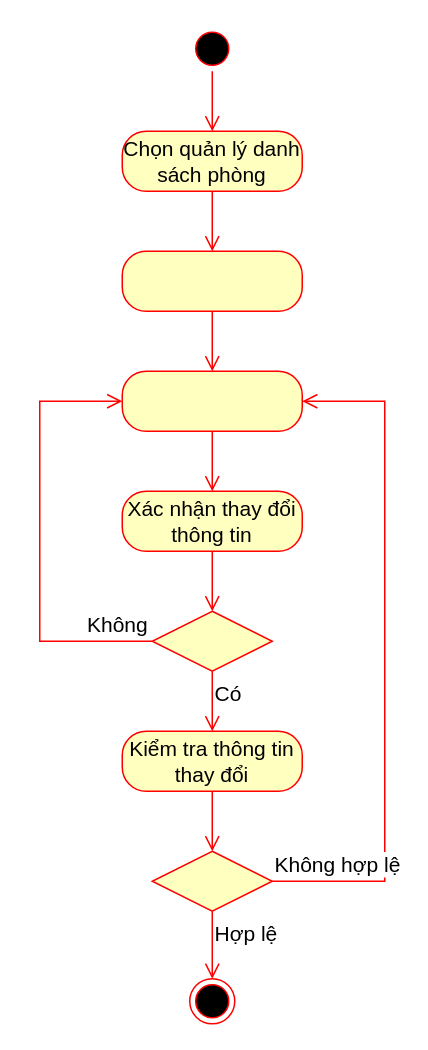
This 428x1050 diagram has some shape labels left out. Each missing label, with the centre of its shape:
"Chọn chỉnh sửa phòng" belongs at (x=211, y=280).
"Nhập thông tin phòng chỉnh sửa" belongs at (x=211, y=400).
